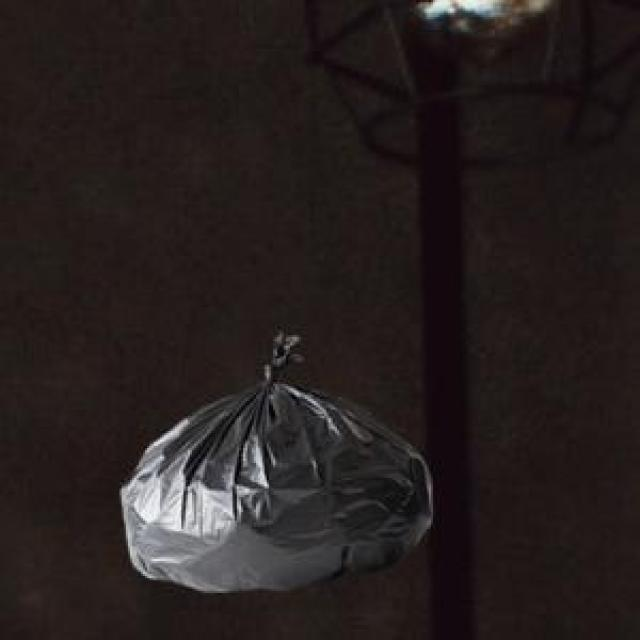Vinyl: (121, 381, 432, 592)
